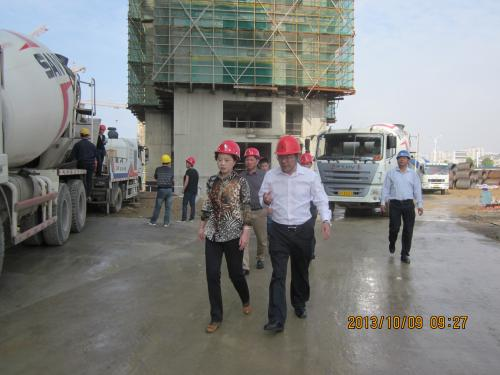boots: (264, 320, 284, 333), (206, 321, 221, 333), (295, 306, 307, 317), (242, 305, 252, 315), (256, 259, 264, 268), (401, 255, 410, 263), (389, 242, 395, 252)
hard-hat: (274, 135, 301, 156), (215, 140, 241, 159), (244, 146, 261, 159), (397, 150, 411, 159), (161, 153, 171, 164), (186, 155, 195, 165), (80, 128, 90, 135)
person: (258, 135, 331, 333), (198, 140, 253, 333), (381, 150, 424, 264), (239, 147, 269, 275), (146, 153, 175, 227), (70, 127, 98, 202), (179, 156, 199, 222)
